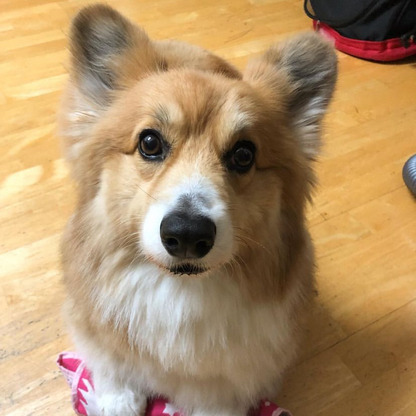Corgi: (68, 13, 342, 402)
